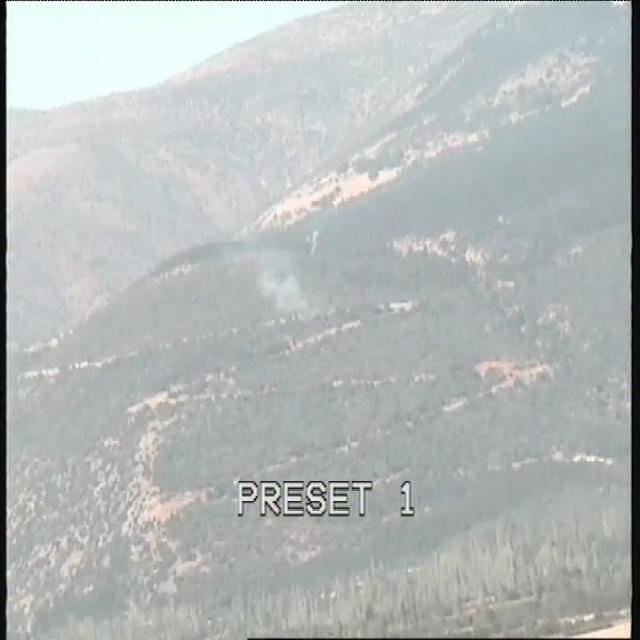smoke: (256, 262, 309, 316)
